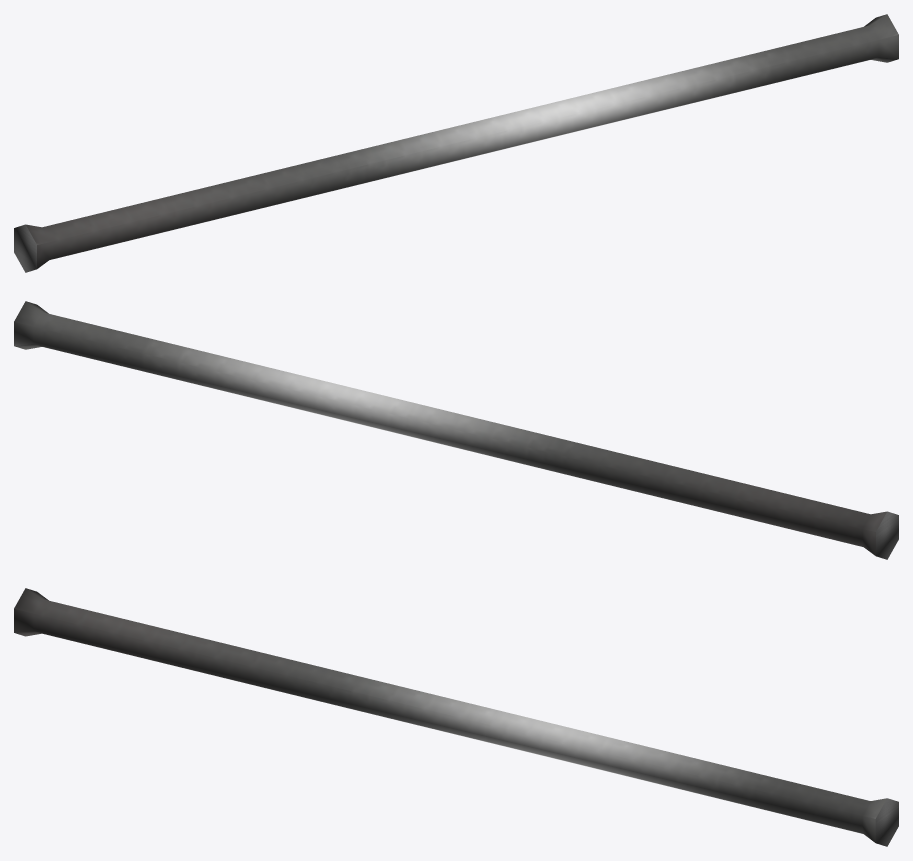
The model's file is Closet_Rod.FBX.
The picture shows the model from 3 angles, top to bottom: view 1: azimuth 30°, elevation 25°; view 2: azimuth 150°, elevation 25°; view 3: azimuth 330°, elevation 25°; orthographic projection.
Parts seen in each view (by area): view 1: Closet_Rod; view 2: Closet_Rod; view 3: Closet_Rod.
Part boxes in pixels (x1,y1,x2,y2): Closet_Rod: [14, 14, 898, 272]; Closet_Rod: [14, 301, 898, 559]; Closet_Rod: [14, 588, 898, 846].
Bounding box in the file's own units: 260 × 14.06 × 12.18.
